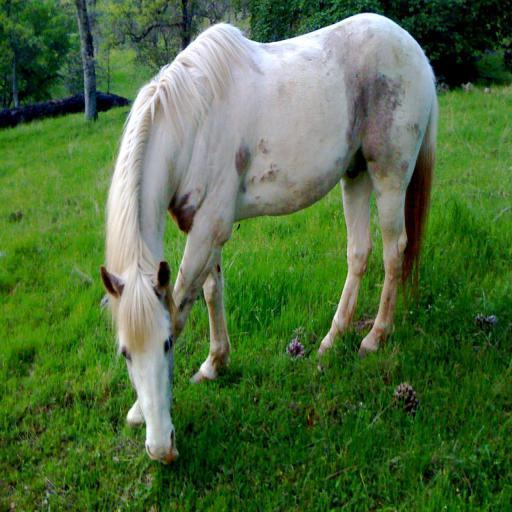horse: (98, 19, 440, 464)
